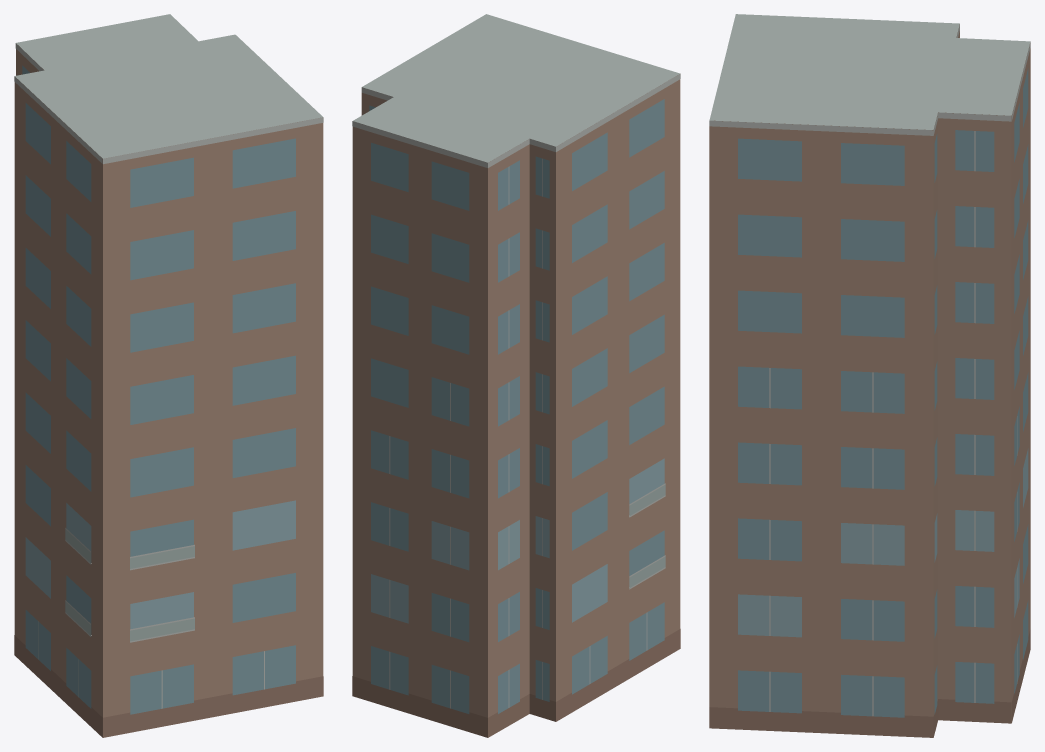
File: survey-upis-33044175.glb
The picture shows the model from 3 angles, left to right: view 1: azimuth 30°, elevation 25°; view 2: azimuth 150°, elevation 25°; view 3: azimuth 270°, elevation 25°; orthographic projection. The views are drawn at different scales.
Parts seen in each view (by area): view 1: survey-upis-33044175.tmp; view 2: survey-upis-33044175.tmp; view 3: survey-upis-33044175.tmp.
Part boxes in pixels (<box>): survey-upis-33044175.tmp: <box>14,14,323,737</box>; survey-upis-33044175.tmp: <box>352,14,680,737</box>; survey-upis-33044175.tmp: <box>709,14,1030,737</box>.
Size of the model in its own units: 10.42 by 25.4 by 12.18.
